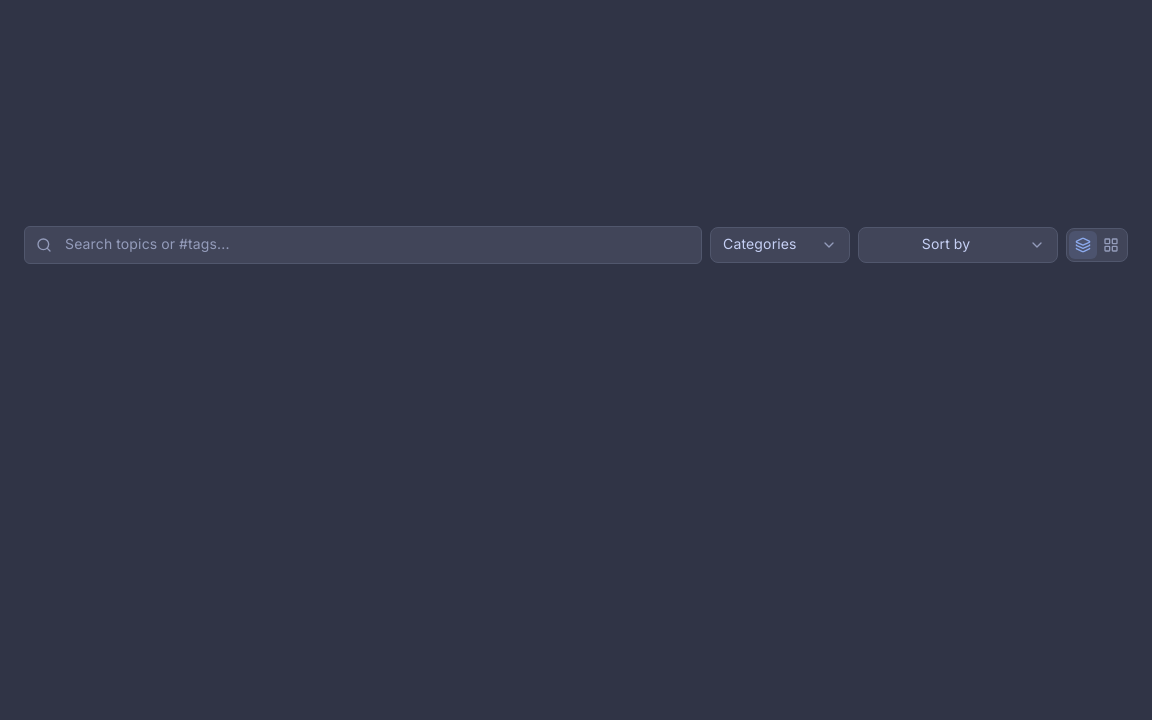
Scenario: OverviewPage › renders pagination controls in grid view
Step 1. Click the button named "Switch to All Topics Grid View" → (1111, 245), box [1097,231,1125,259]
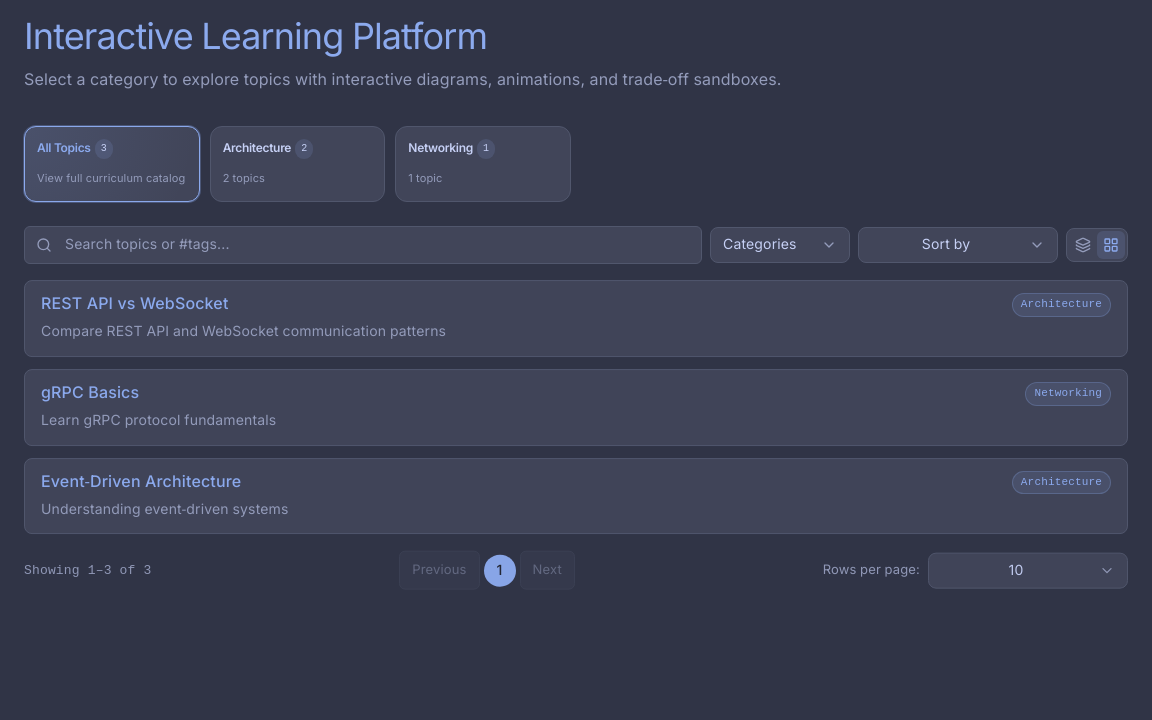
Expected: the element with test id "overview-pagination" is shown, [24,551,1128,590]
Expected: the button with test id "pagination-prev" is shown, [399,551,480,590]
Expected: the button with test id "pagination-next" is shown, [520,551,575,590]
